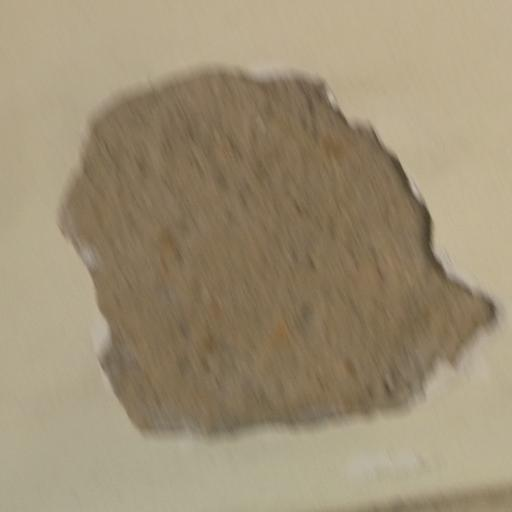peeling: (51, 58, 512, 444), (341, 441, 447, 475)
